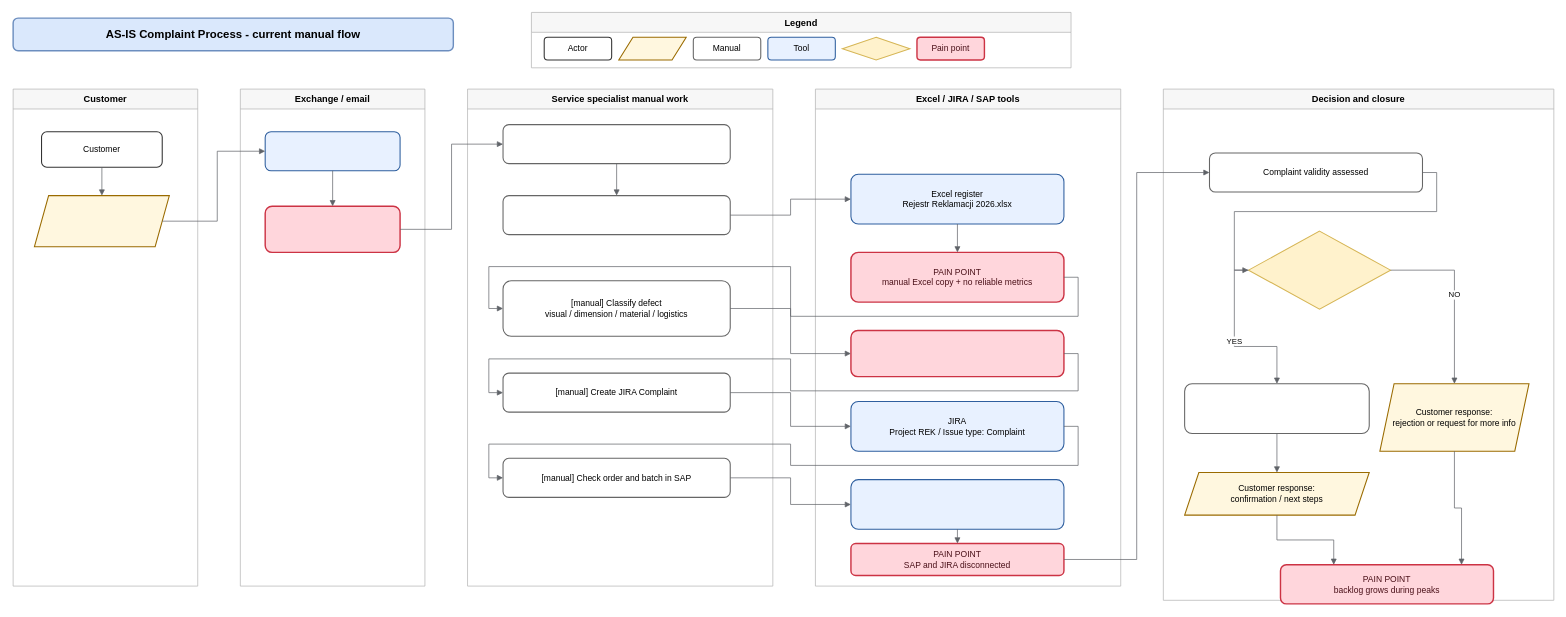
Some shapes in this 1566 by 617 pixel diagram are drawn without their labels. Each missing label, with the centre of its shape:
[manual] Copy complaint data to Excel: pixel 616 215
[manual] Create JIRA Correction Issue type: Correction: pixel 1276 408
[manual] Service specialist reads email: pixel 616 144
Complaint email sent photos + order no. + PL/EN description: pixel 102 221
Decision: pixel 876 48
Defect confirmed?: pixel 1319 269
Exchange receives email: pixel 332 151
Input: pixel 652 48
PAIN POINT spam / delayed reading: pixel 332 229
PAIN POINT subjective classification: pixel 957 353
SAP manual order/batch lookup: pixel 957 504
